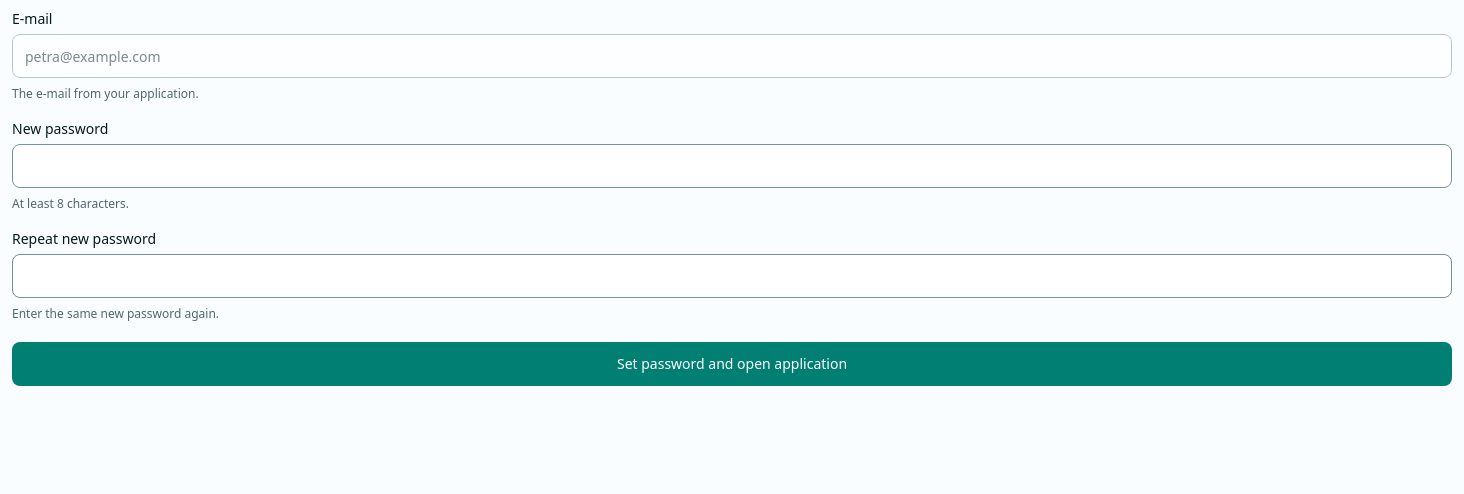
Test: SetPasswordForm › shows the server's error and keeps the form when saving fails
In the password field labelled "New password": (732,166) top-left (12, 144), bottom-right (1452, 188), type "my-own-password"
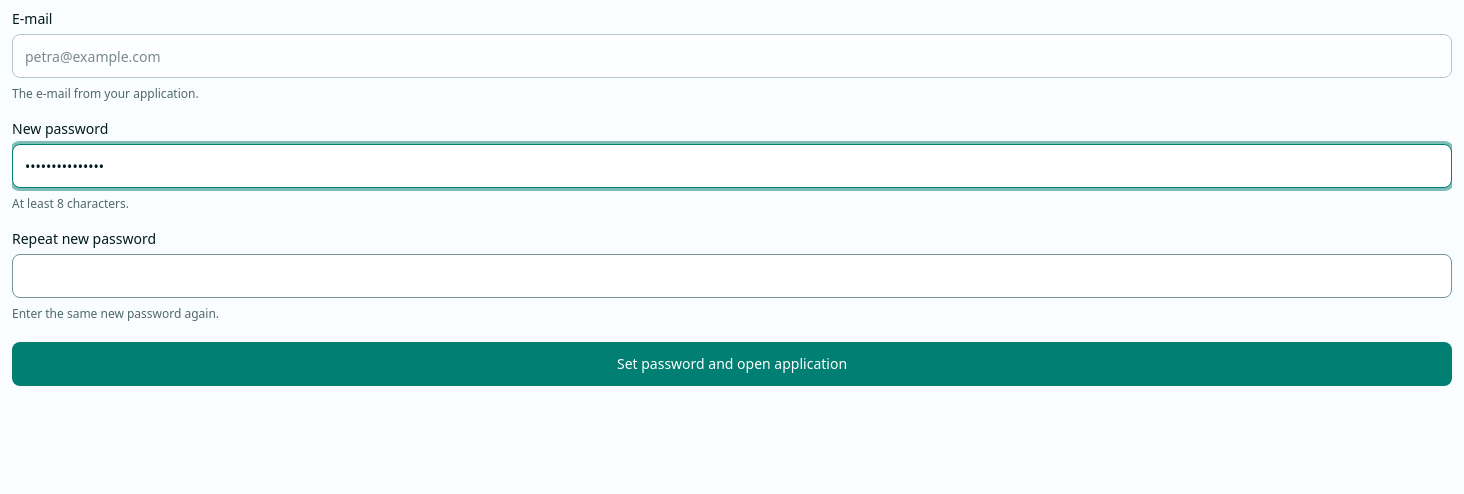
In the password field labelled "Repeat new password": (732,276) top-left (12, 254), bottom-right (1452, 298), type "my-own-password"
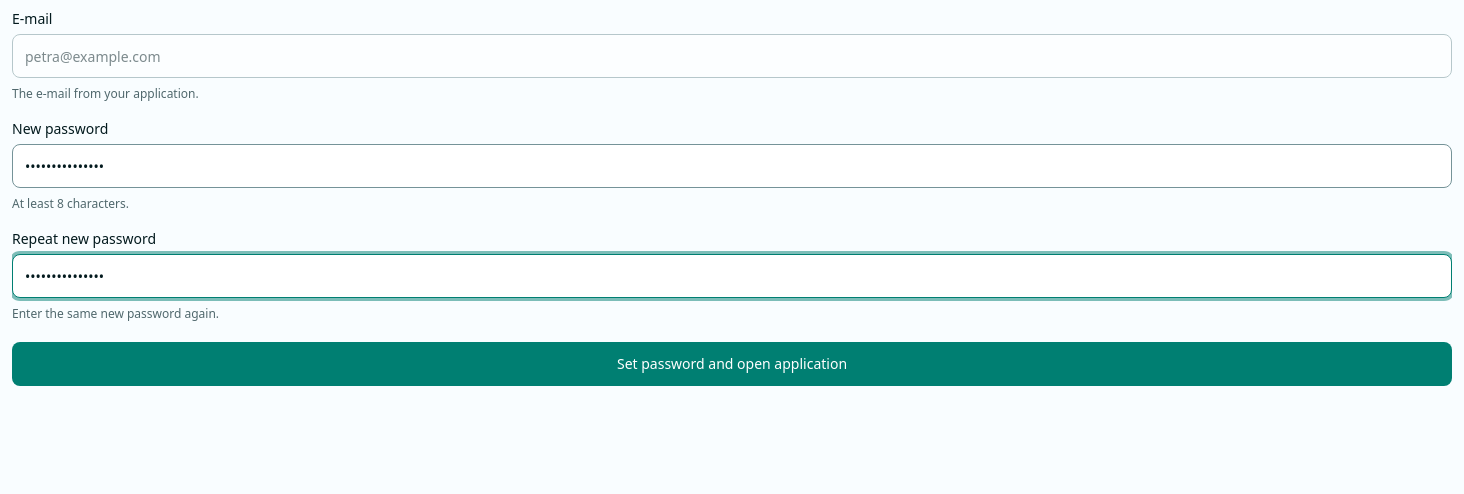
Click the button "Set password and open application": (732,364) top-left (12, 342), bottom-right (1452, 386)
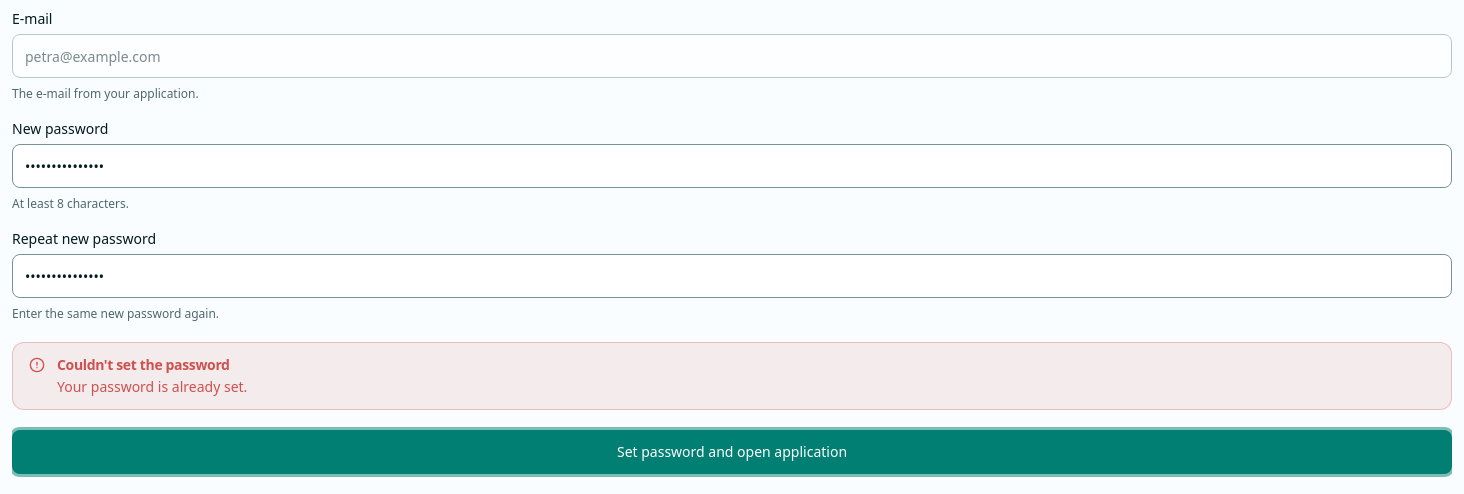
Check: the text "Couldn't set the password" is shown, box top-left (57, 355), bottom-right (230, 374)
Check: the text "Your password is already set." is shown, box top-left (57, 377), bottom-right (247, 396)
